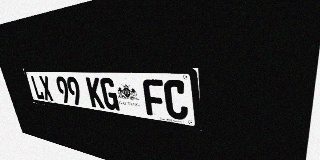9: (65, 76, 83, 106), (55, 76, 72, 104)
C: (163, 80, 189, 121)
F: (142, 79, 166, 118)
G: (99, 78, 120, 111)
K: (85, 77, 105, 109)
L: (30, 75, 45, 100)
X: (38, 76, 54, 101)
